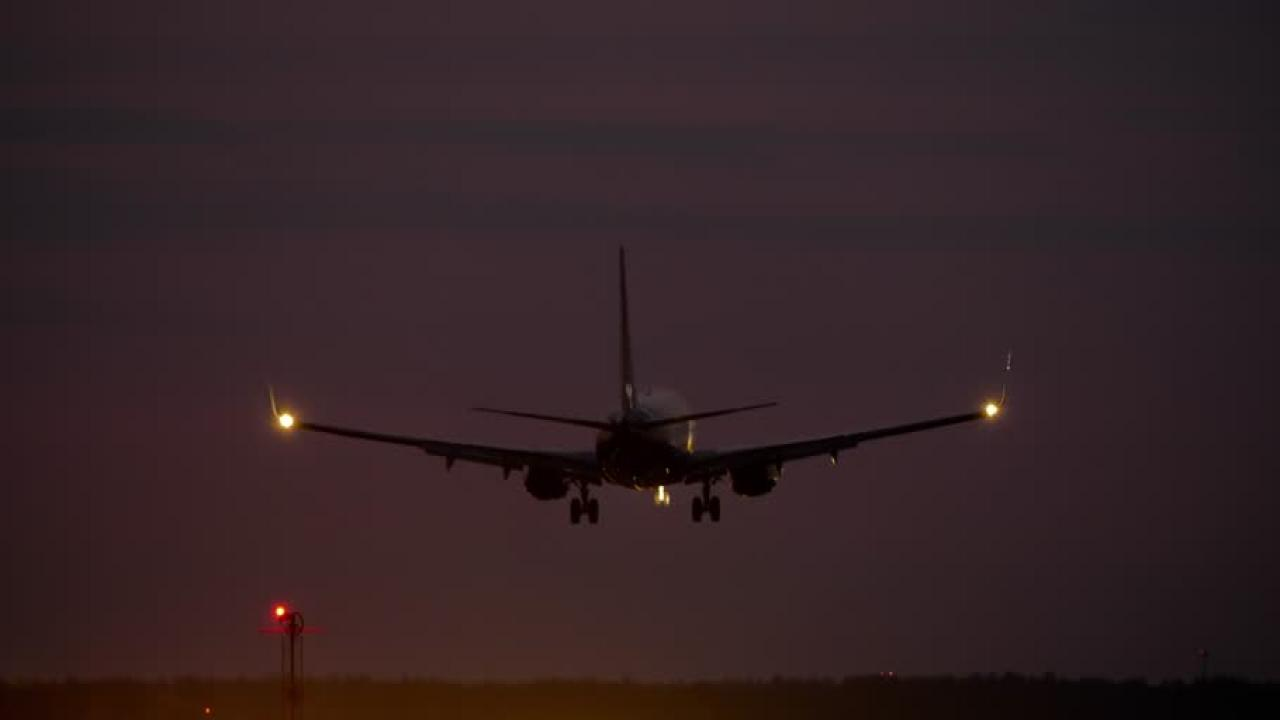Airplane: (256, 226, 1028, 536)
